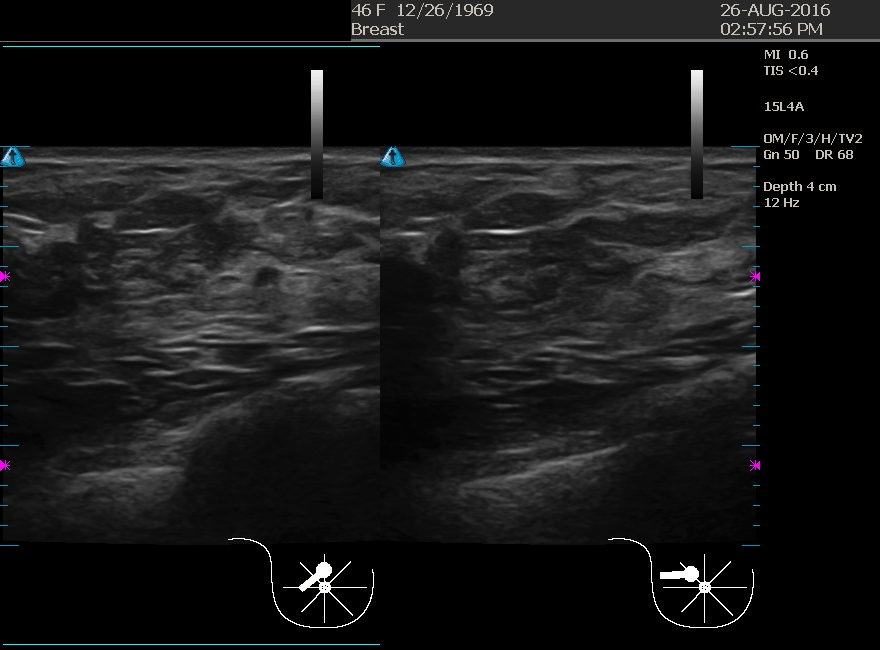BIRADS_2: (36, 149, 236, 350), (389, 173, 589, 374)
